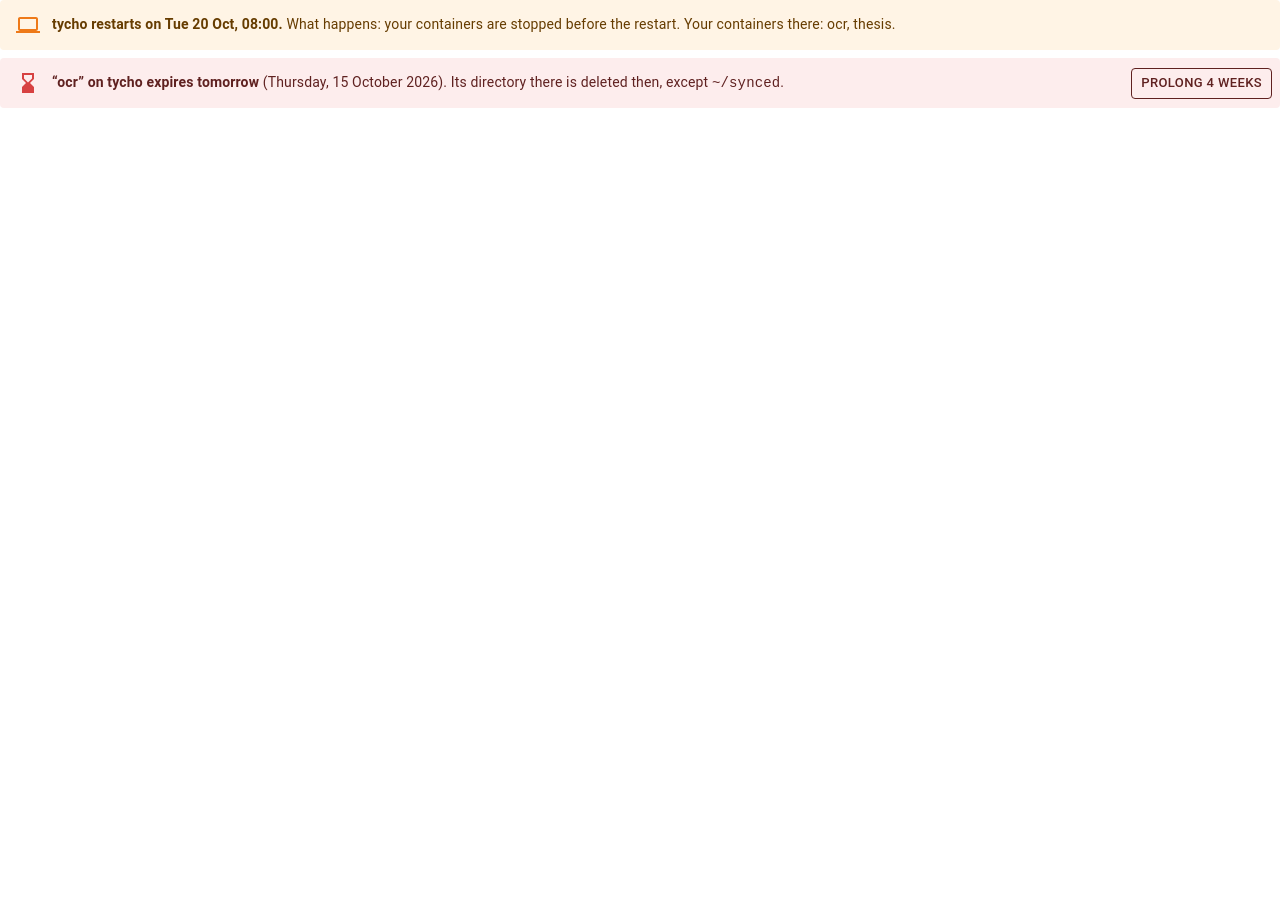
Scenario: a refused prolong says why
Click the button "Prolong 4 weeks". click: click(1202, 83)
box: [1131,68,1272,99]
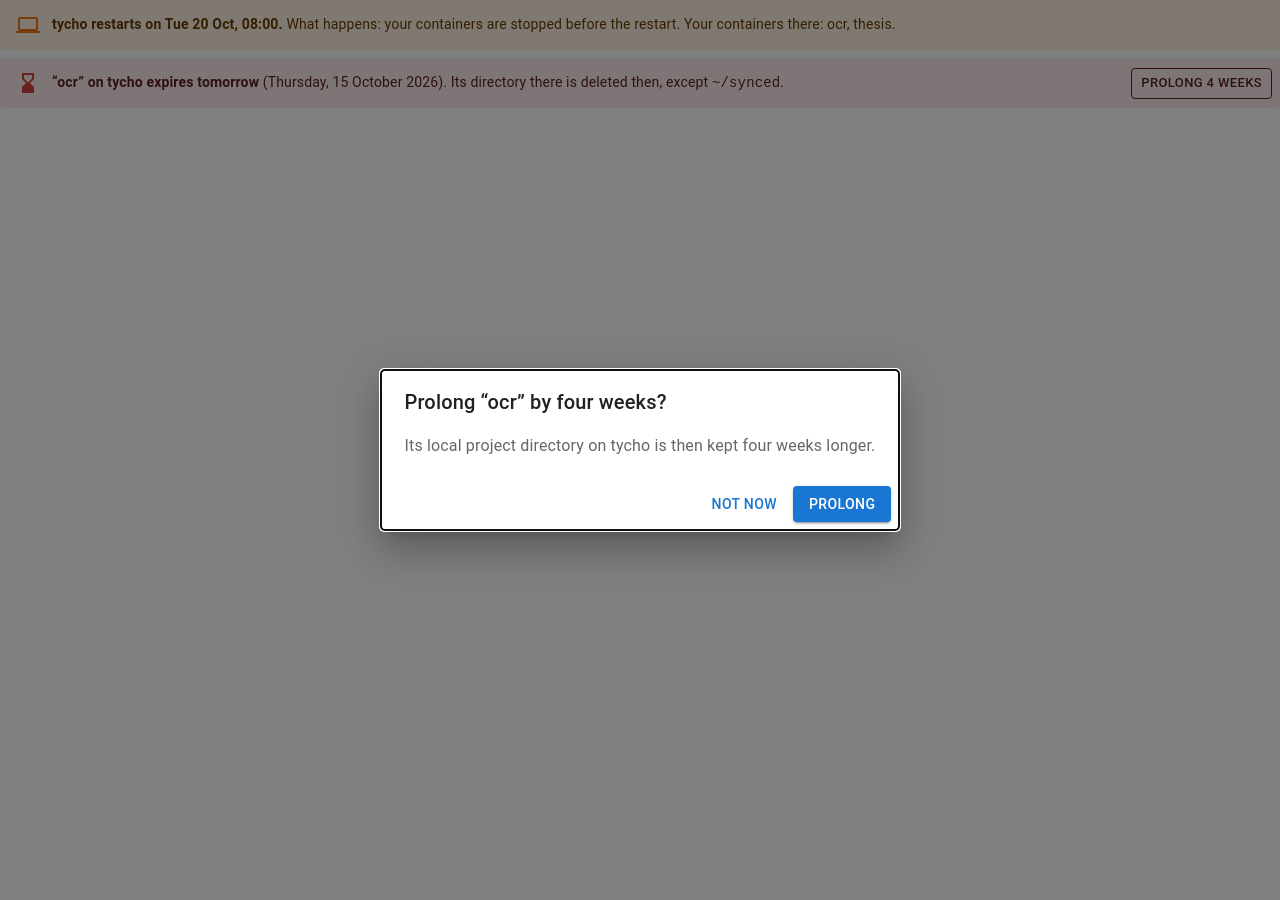
Click the button with test id "prolong-confirm". click: click(842, 504)
box: [793,486,891,522]
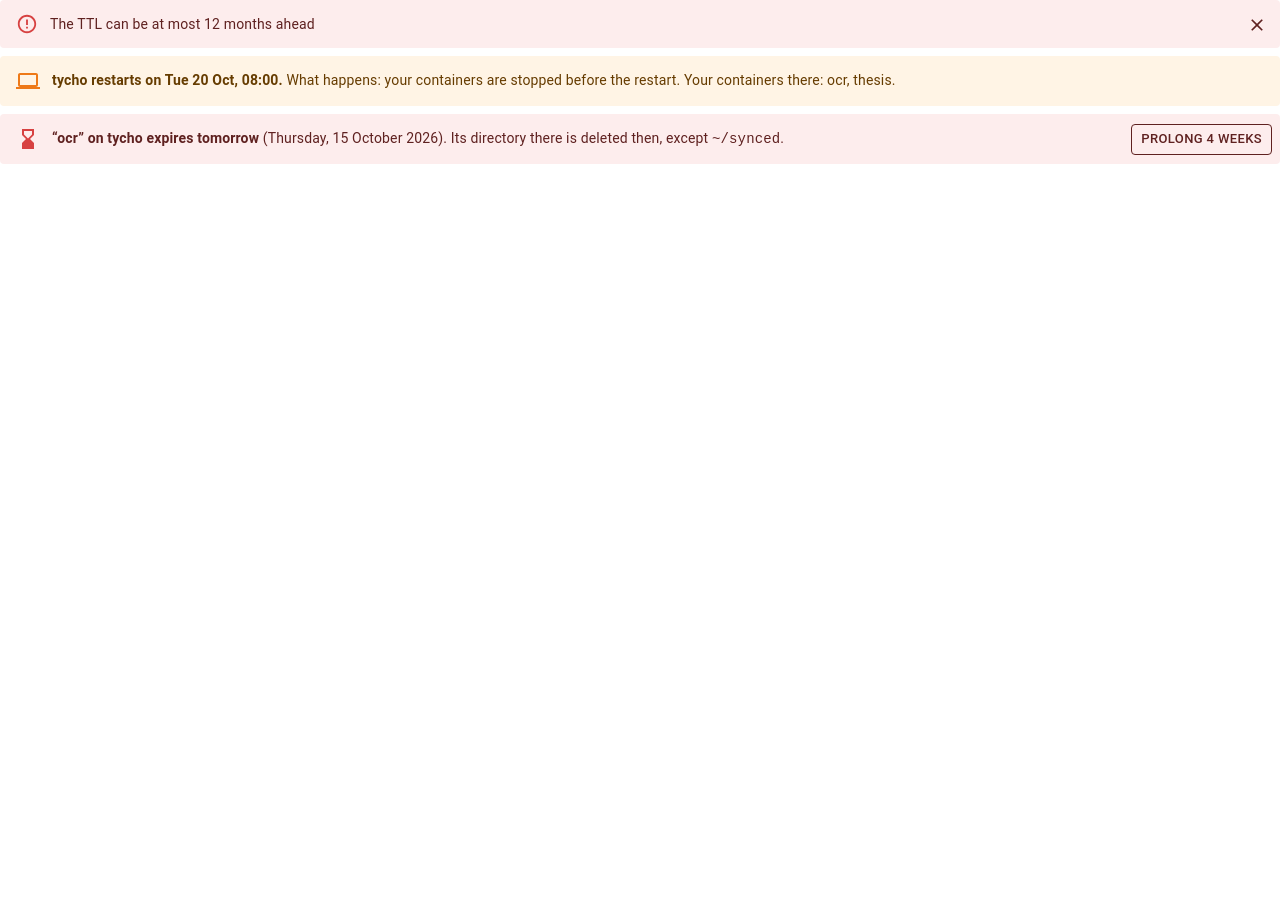
expect the message with test id "notice-result" shows "at most 12 months ahead": met, box [50,16,315,32]
